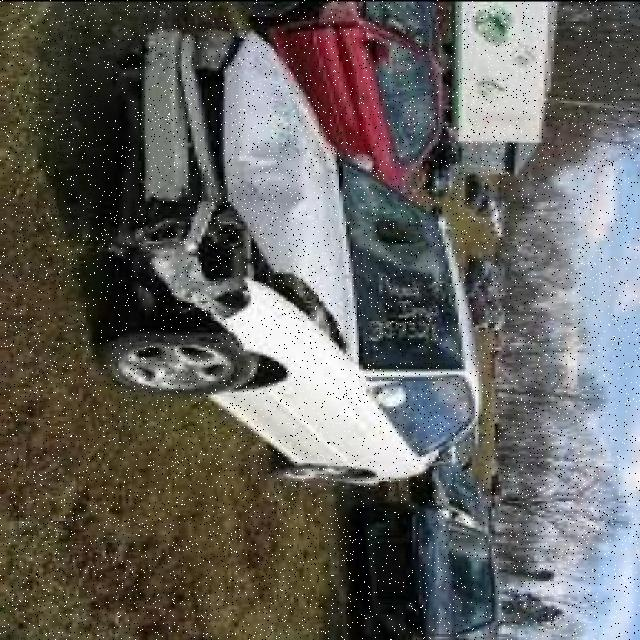damage: (109, 31, 354, 357), (340, 154, 461, 372)
